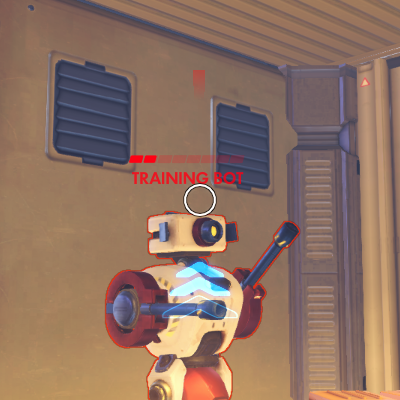hpbar: (129, 155, 244, 163)
